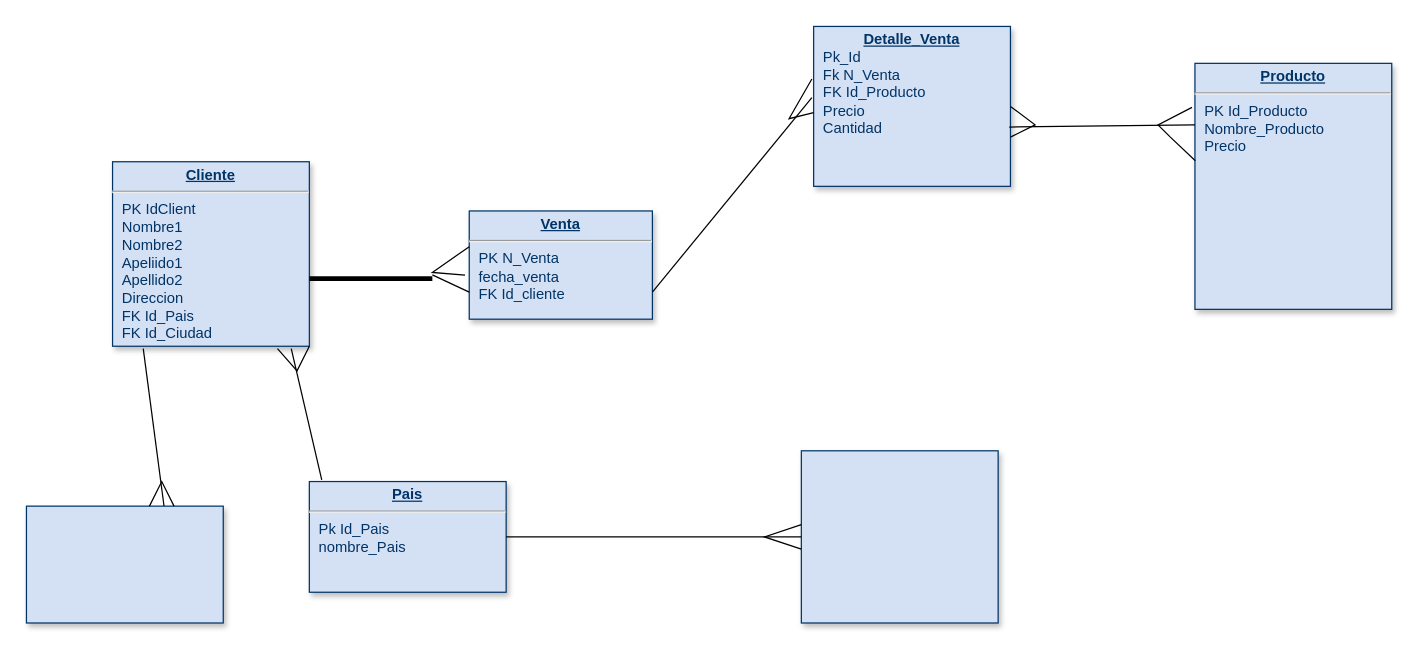
The diagram is 1421 pixels wide and 653 high, and some of its shapes have lost their labels. The centre of each missing label's shape, as x and y in pixels:
"Ciudad Pk Id_ciudad nombre_ciudad Fk Id_pais" goes at point 900,538.
"Correo Pk Id_correo correo Fk Id_cliente" goes at point 125,566.
